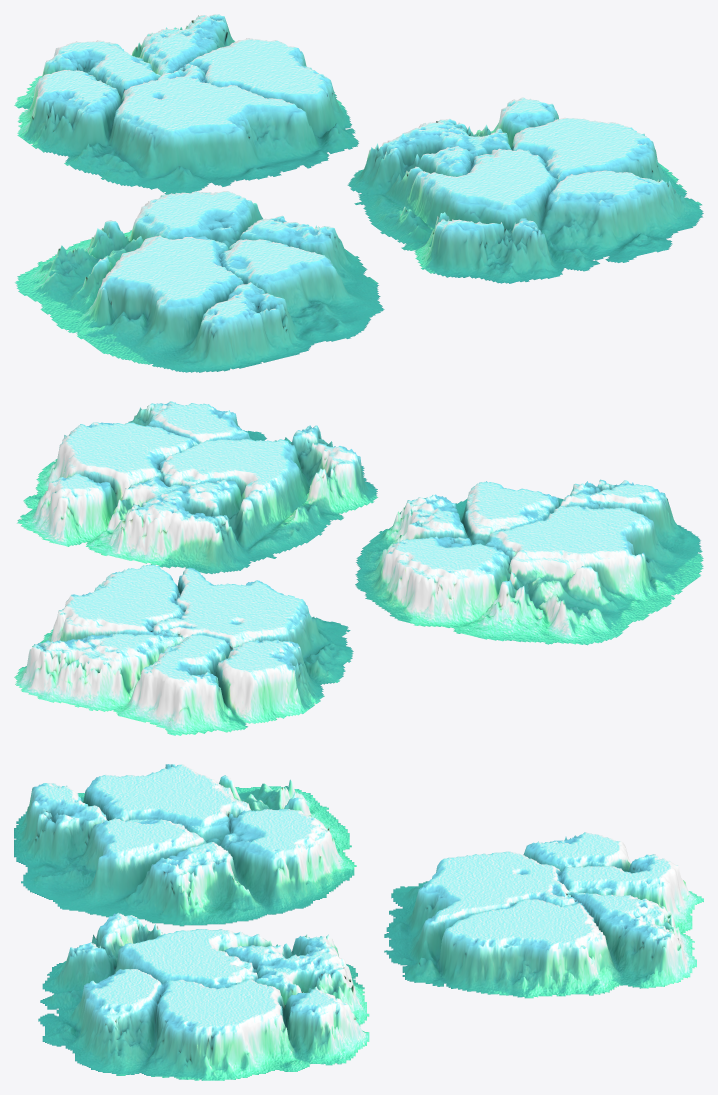
File: glaciers.glb
The picture shows the model from 3 angles, top to bottom: view 1: azimuth 30°, elevation 25°; view 2: azimuth 150°, elevation 25°; view 3: azimuth 270°, elevation 25°; orthographic projection.
Visible parts, largest first — view 1: Landscape.002; view 2: Landscape.002; view 3: Landscape.002.
Part boxes in pixels (x1,y1,x2,y2): Landscape.002: (14, 14, 703, 372); Landscape.002: (14, 401, 703, 735); Landscape.002: (14, 764, 703, 1080).
Size of the model in its own units: 3.88 by 0.2498 by 3.8.
1 material, 1 textured.
